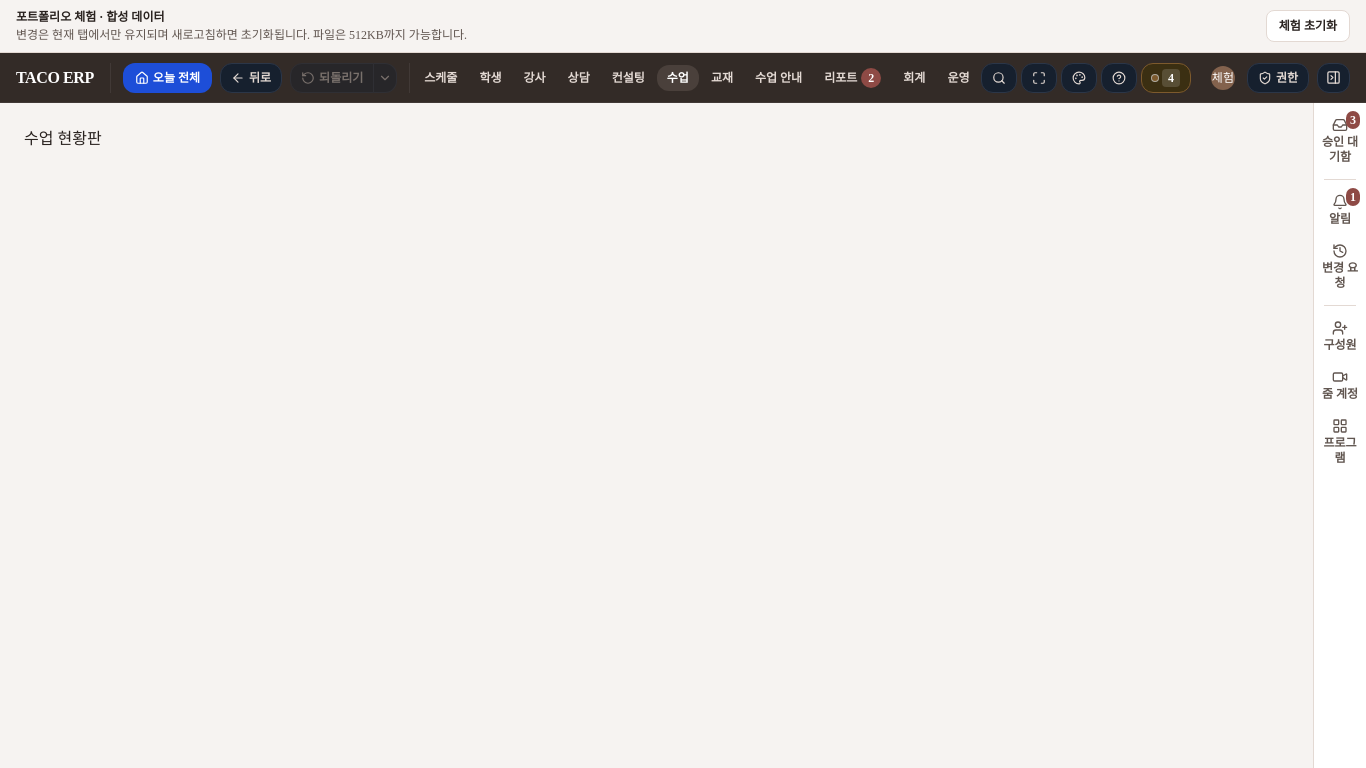
Test case: 원본 관리자 공용 셸 › 상단 「승인 대기」는 §75 읽기 모달을 열고 권한은 기존 상세 내용을 연다
The width and height of the screenshot is (1366, 768).
Click the button named "승인 대기 4" at coordinates (1166, 78), box [1141,62,1191,92]
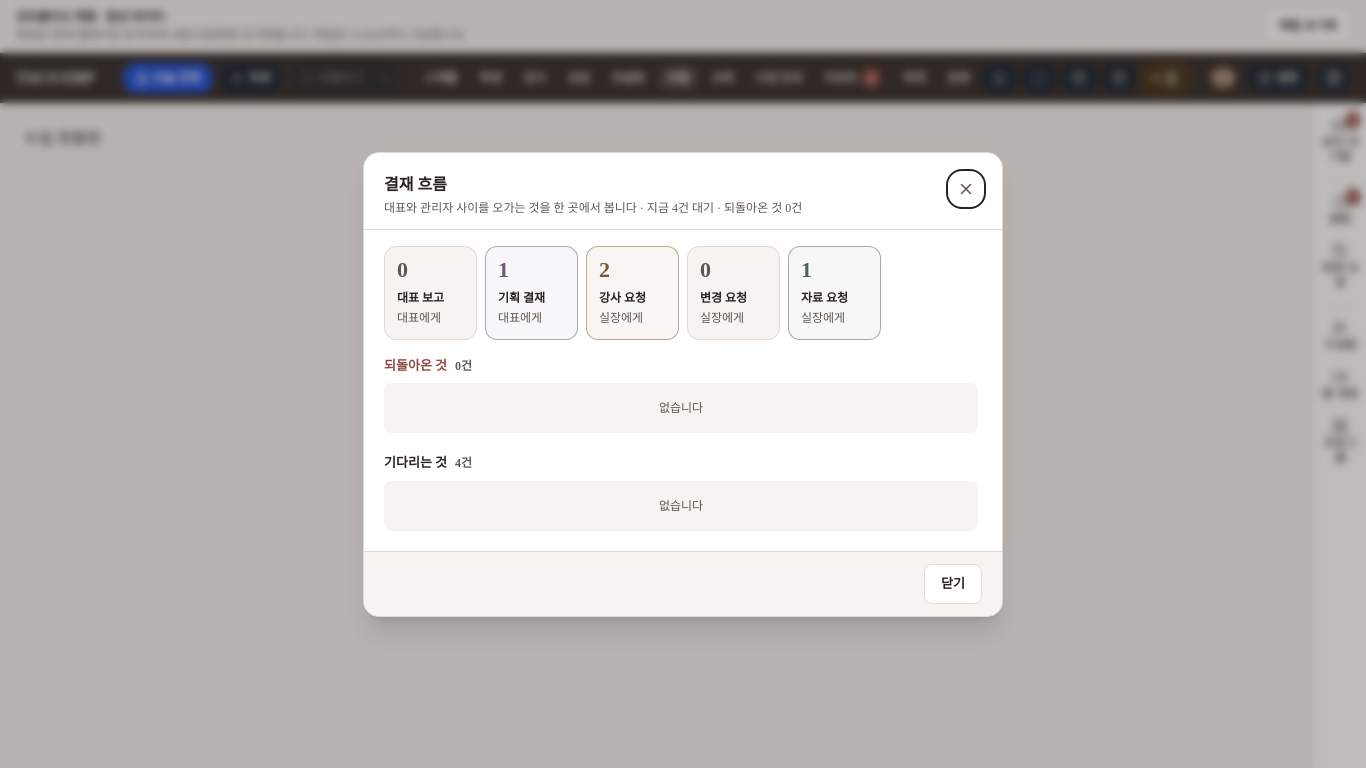
Expected: the dialog "결재 흐름" is shown, [363,152,1003,616]
Click the button "닫기" at coordinates (953, 584), box [924,564,982,604]
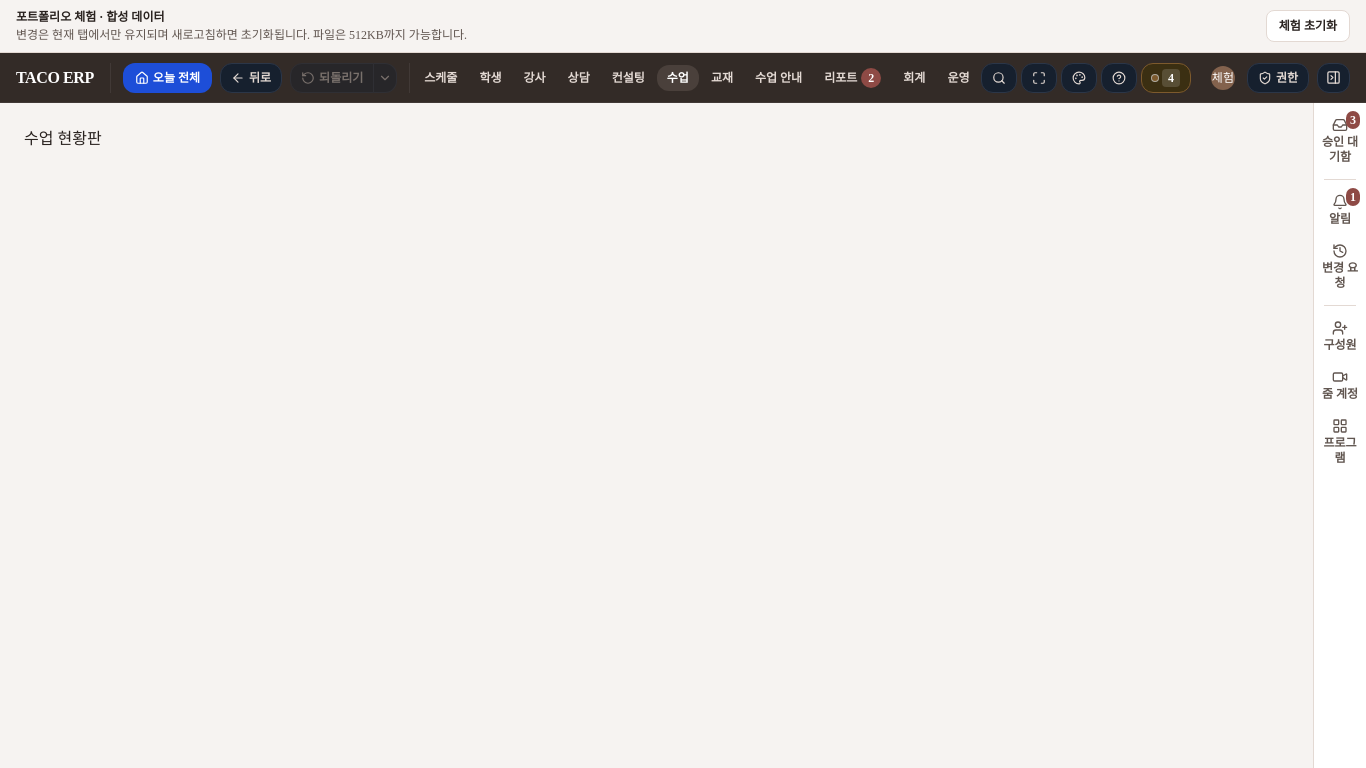
Click the button "권한" at coordinates (1278, 78), box [1247,62,1309,92]
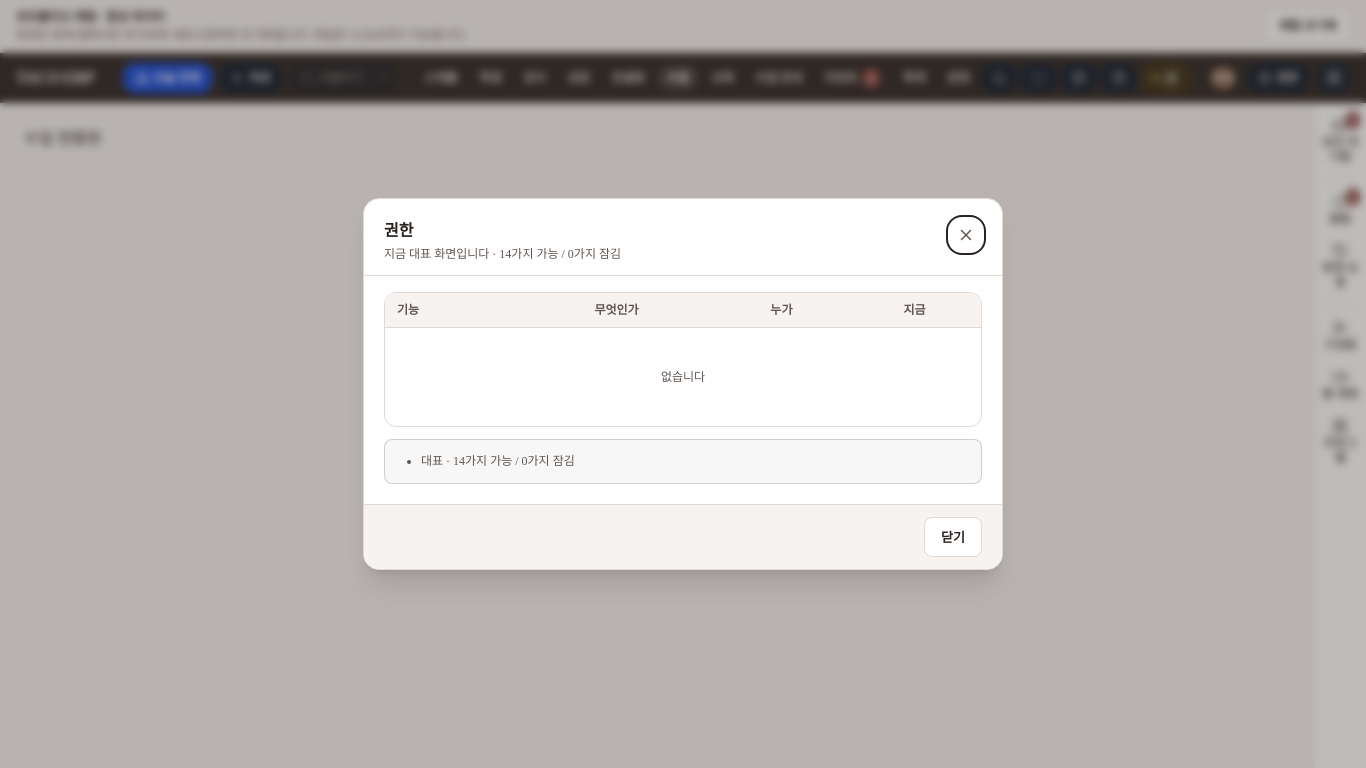
Expected: the button named "창 닫기" is shown, [950,219,982,251]
Expected: the text "지금 대표 화면입니다 · 14가지 가능 / 0가지 잠김" is shown once, [384,245,621,263]
